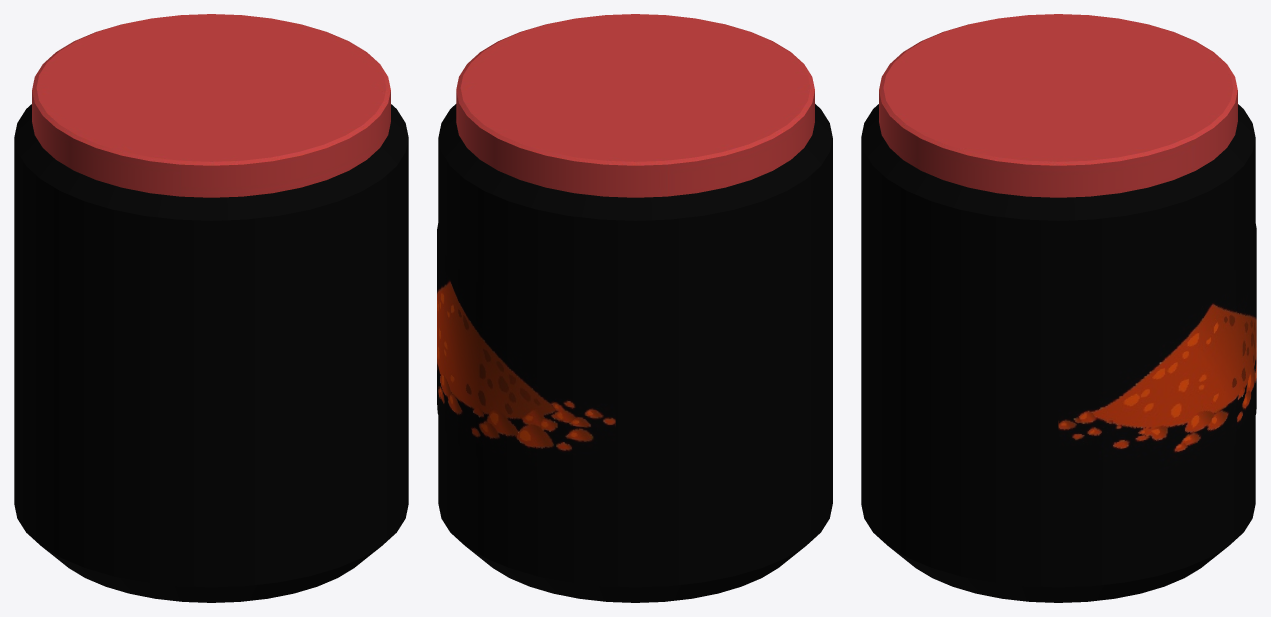
The model's file is spices.obj.
3 views of the same model, side by side, from view 1: azimuth 30°, elevation 25°; view 2: azimuth 150°, elevation 25°; view 3: azimuth 270°, elevation 25° (orthographic).
Visible parts, largest first — view 1: Pot, Dop; view 2: Pot, Dop, Plane; view 3: Pot, Dop, Plane.
Boxes of the visible parts, bbox=[...] form: Pot: bbox=[14, 104, 408, 602]; Dop: bbox=[32, 14, 390, 197]; Pot: bbox=[438, 104, 832, 602]; Dop: bbox=[456, 14, 814, 197]; Plane: bbox=[437, 223, 615, 490]; Pot: bbox=[861, 104, 1255, 602]; Dop: bbox=[879, 14, 1237, 197]; Plane: bbox=[1058, 224, 1256, 490].
Size of the model in its own units: 100 by 125 by 100.
